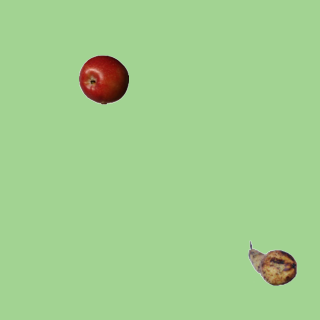Apple Braeburn: (78, 54, 128, 104)
Pear Abate: (247, 238, 297, 288)
